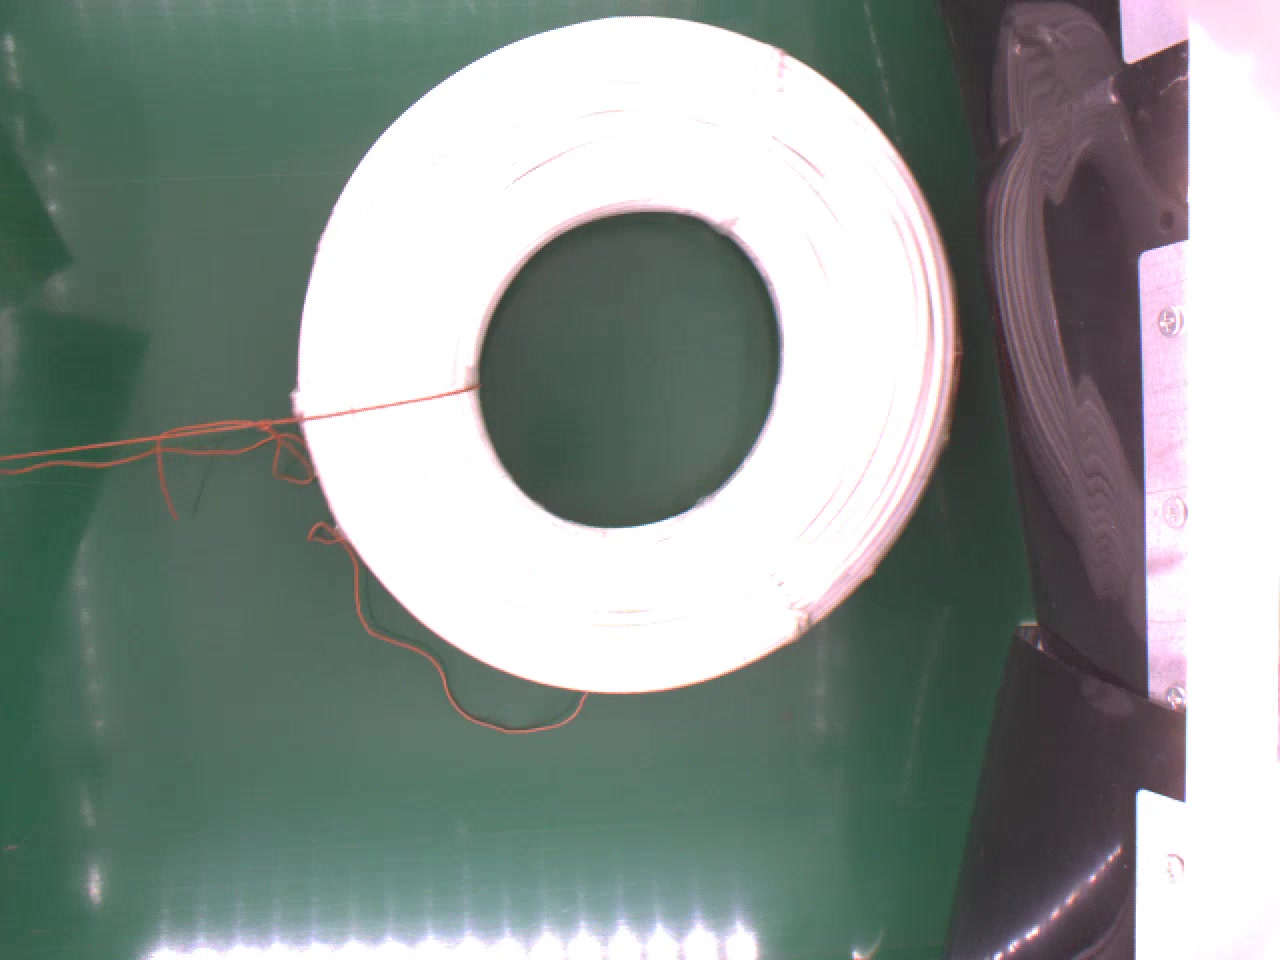white: (284, 15, 974, 693)
